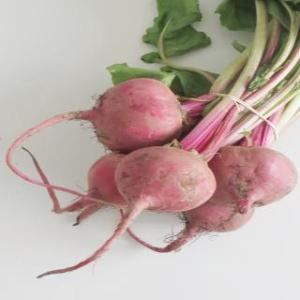beet: (90, 150, 216, 212), (92, 78, 200, 146), (215, 143, 300, 211), (182, 190, 258, 232)
